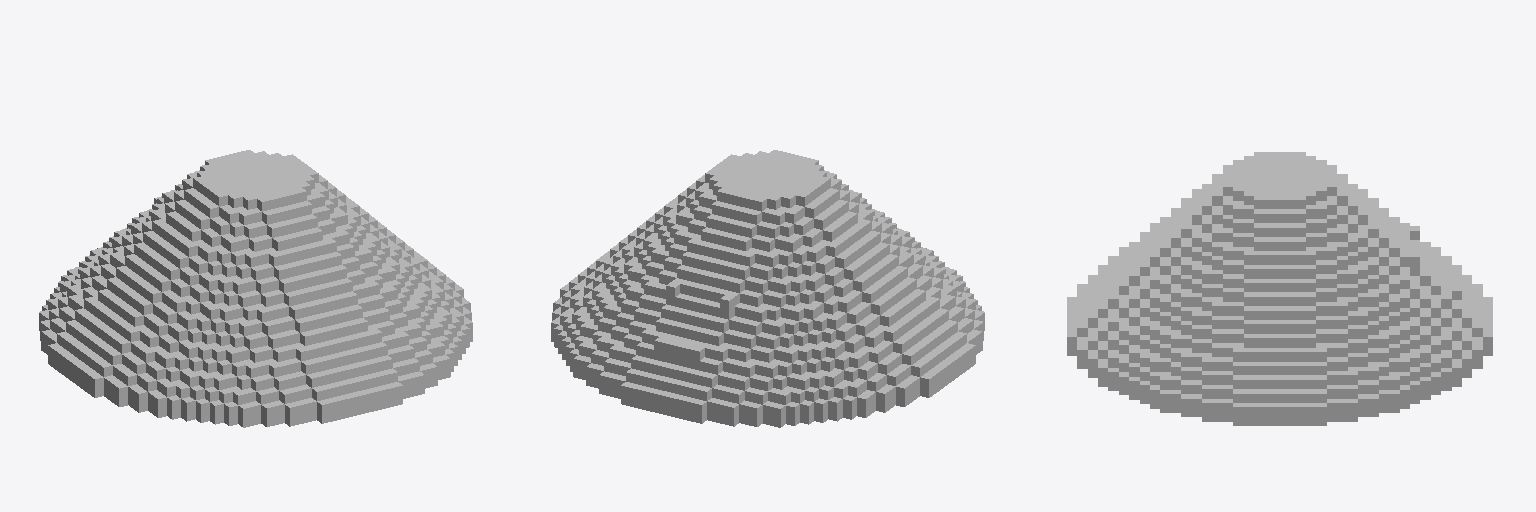
File: mountain.obj
3 renders of one model, left to right at view 1: azimuth 30°, elevation 25°; view 2: azimuth 150°, elevation 25°; view 3: azimuth 270°, elevation 25°, orthographic.
Parts seen in each view (by area): view 1: object 1; view 2: object 1; view 3: object 1.
Part boxes in pixels (x1,y1,x2,y2): object 1: (39,150,472,427); object 1: (551,150,984,427); object 1: (1067,152,1492,425).
Size of the model in its own units: 4.1 by 1.7 by 4.1.